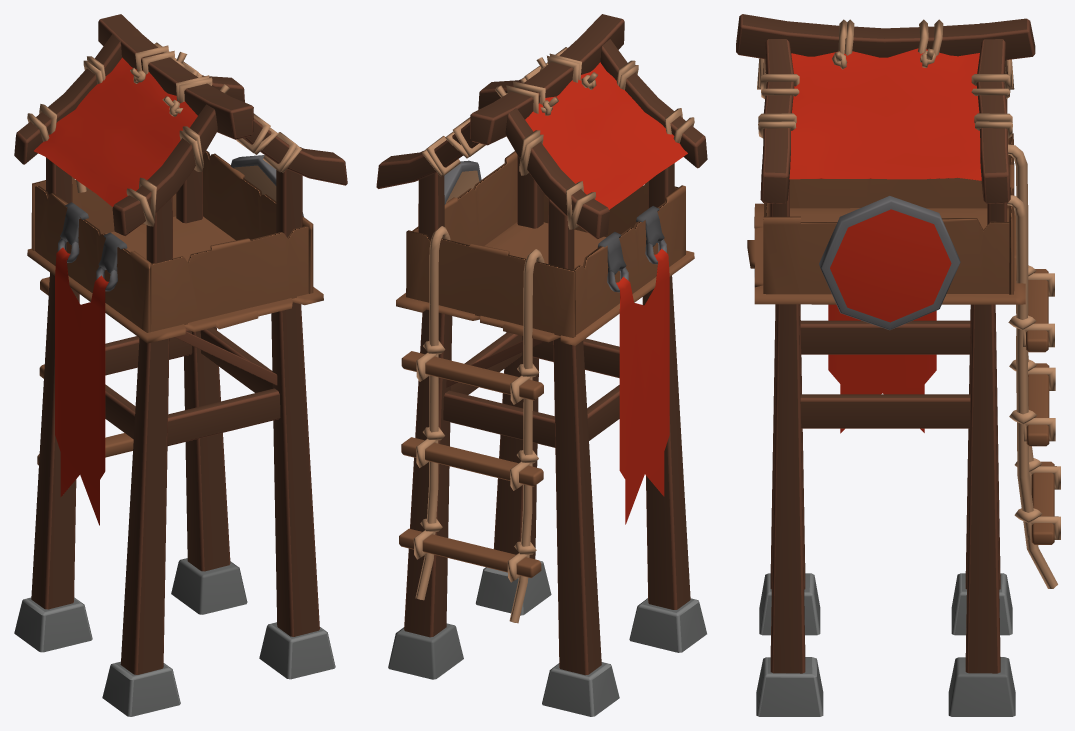
Rendered from WatchTower_1.fbx.
3 views of the same model, side by side, from view 1: azimuth 30°, elevation 25°; view 2: azimuth 150°, elevation 25°; view 3: azimuth 270°, elevation 25° (orthographic). The views are drawn at different scales.
Parts seen in each view (by area): view 1: WatchTower_1; view 2: WatchTower_1; view 3: WatchTower_1.
Boxes of the visible parts, x1,y1,x2,y2 form: WatchTower_1: (14,14,347,716); WatchTower_1: (376,14,707,716); WatchTower_1: (736,14,1060,716).
Size of the model in its own units: 123 by 309 by 142.
